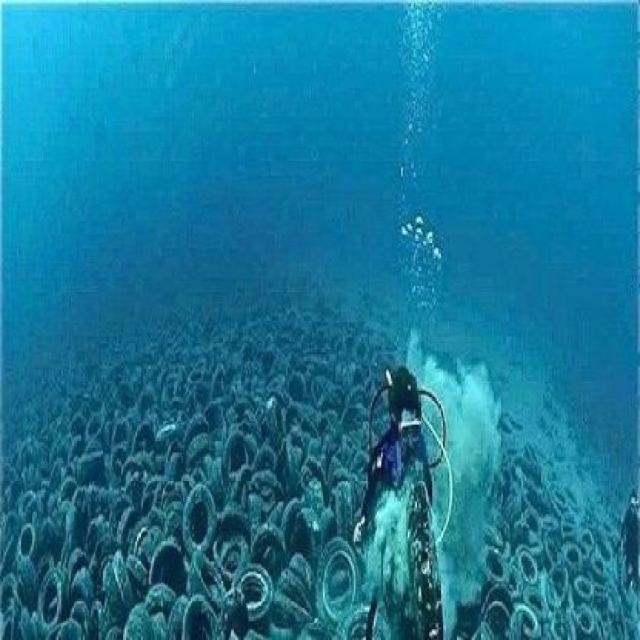tire: (6, 366, 357, 640), (492, 471, 614, 640)
